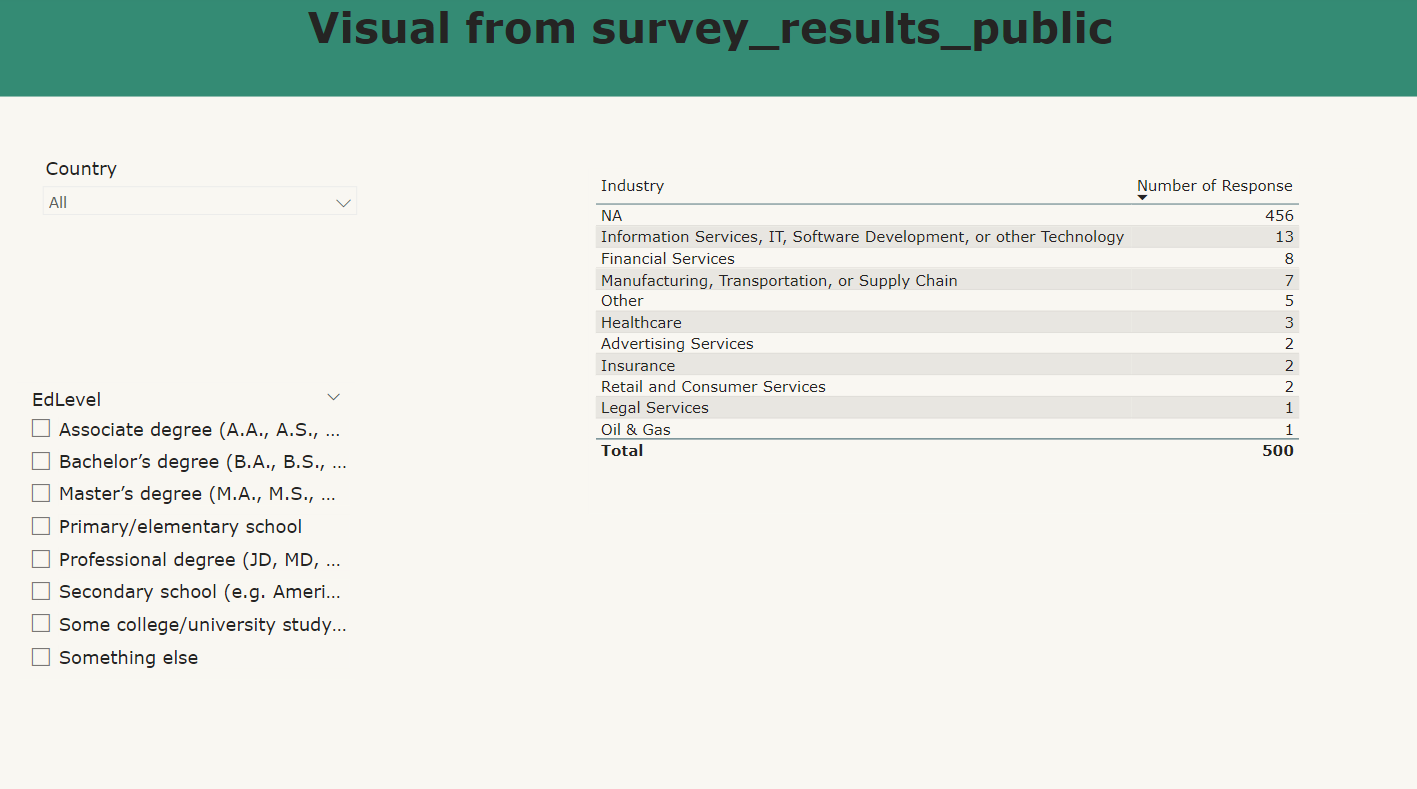

Layout of this report page (visuals, bound fields, positions):
{"tool":"powerbi","page":{"name":"survey_results_public","canvas":[1280,720],"ordinal":8},"visuals":[{"type":"slicer","fields":{"Values":["survey_results_public.EdLevel"]},"box":[23.2,344.6,300.7,264.6],"z":0},{"type":"slicer","fields":{"Values":["survey_results_public.Country"]},"box":[36.1,139.4,300.7,72.3],"z":1000},{"type":"tableEx","fields":{"Values":["survey_results_public.Industry","CountNonNull(survey_results_public.ResponseId)"]},"box":[531.7,154.9,694.3,307.2],"z":2000},{"type":"textbox","box":[0,0,1280.3,90.3],"z":3000}]}

Visuals, with their boxes in screenshot pixels (x1, y1, x2, y2), scaled from the page's 1280x720 canvas onto the 1417x789 screenshot:
slicer - survey_results_public.EdLevel: {"left": 26, "top": 378, "right": 359, "bottom": 668}
slicer - survey_results_public.Country: {"left": 40, "top": 153, "right": 373, "bottom": 232}
tableEx - survey_results_public.Industry x CountNonNull(survey_results_public.ResponseId): {"left": 589, "top": 170, "right": 1357, "bottom": 506}
textbox: {"left": 0, "top": 0, "right": 1416, "bottom": 99}
